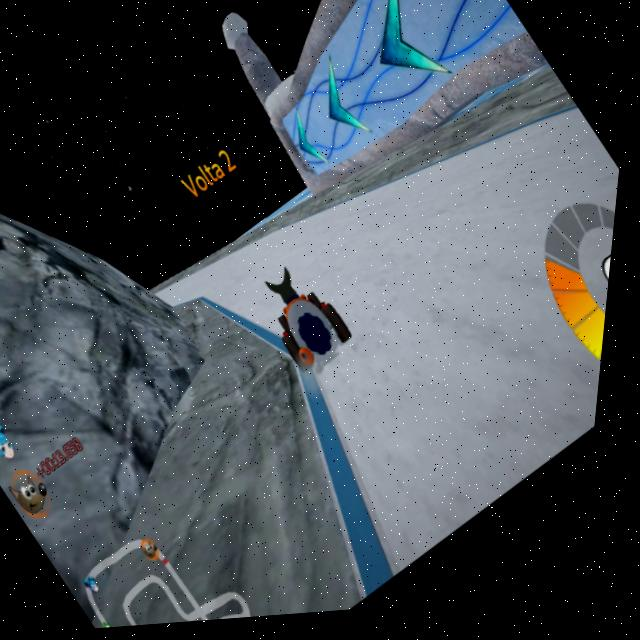off_track: (0, 243, 351, 637)
player_kart: (246, 255, 371, 388)
track: (309, 125, 605, 414), (180, 211, 315, 329)
